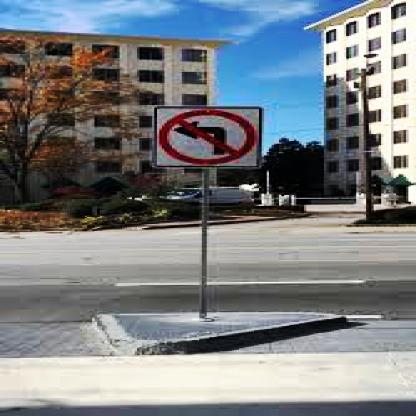No left turn: (152, 104, 258, 168)
